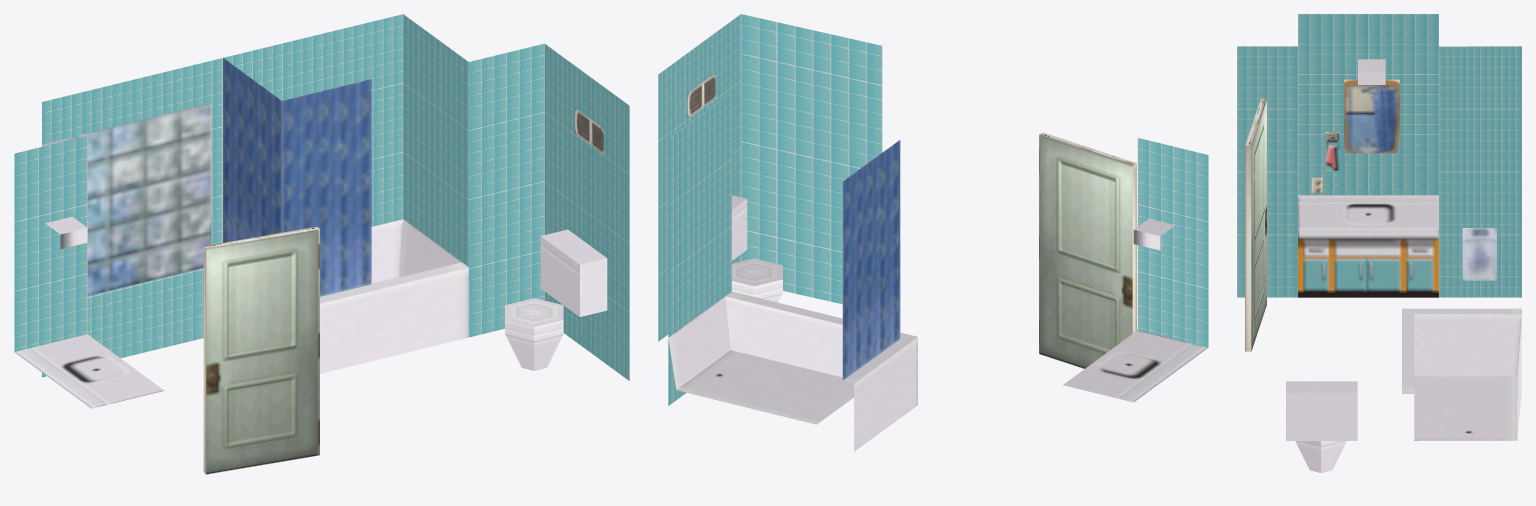
Rendered from BATHROOM.glb.
3 views of the same model, side by side, from view 1: azimuth 30°, elevation 25°; view 2: azimuth 150°, elevation 25°; view 3: azimuth 270°, elevation 25° (orthographic). The views are drawn at different scales.
Parts seen in each view (by area): view 1: BATHROOM; view 2: BATHROOM; view 3: BATHROOM.
Part boxes in pixels (bbox=[...]): BATHROOM: bbox=[14, 14, 629, 474]; BATHROOM: bbox=[658, 14, 1208, 451]; BATHROOM: bbox=[1237, 14, 1521, 472].
Bounding box in the file's own units: 1207 × 623 × 640.
5 materials, 5 textured.
